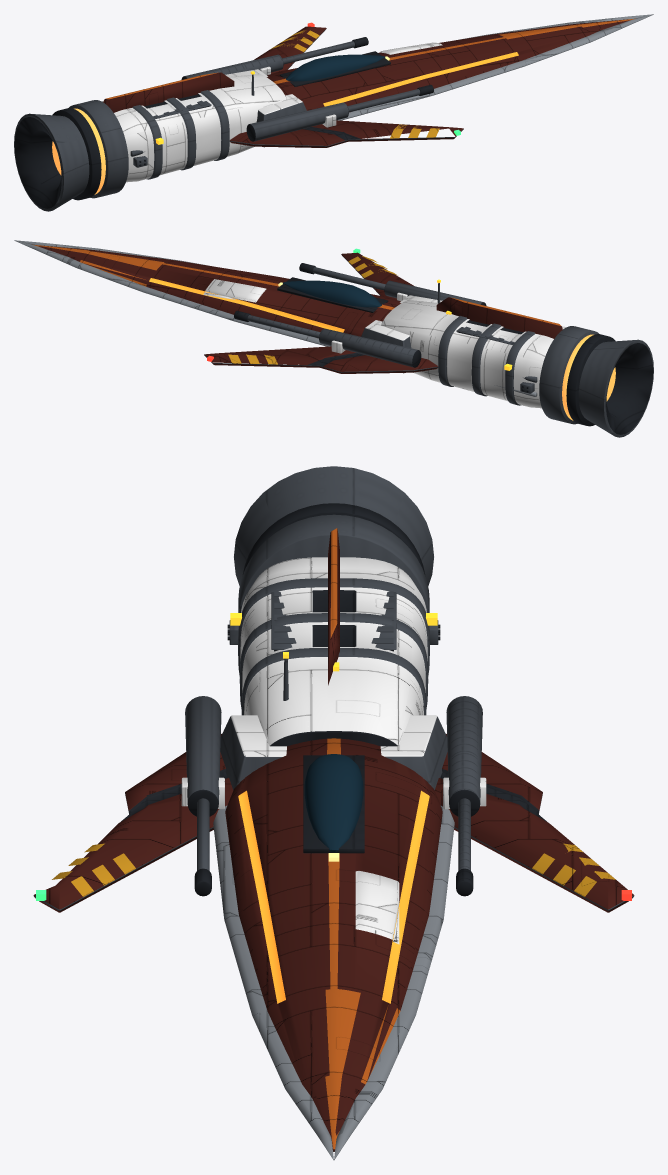
Rendered from ashline_dart_lod1.glb.
3 renders of one model, top to bottom at view 1: azimuth 30°, elevation 25°; view 2: azimuth 150°, elevation 25°; view 3: azimuth 270°, elevation 25°, orthographic. The views are drawn at different scales.
Parts seen in each view (by area): view 1: LOD1_MOTION_HULL_CORE_Hull, LOD1_MOTION_HULL_CORE_Mechanical, LOD1_MOTION_HULL_CORE_Armor, LOD1_MOTION_HULL_CORE_MechanicalDark, LOD1_MOTION_HULL_CORE_BrushedMetal, LOD1_MOTION_HULL_CORE_CANOPY, LOD1_MOTION_HULL_CORE_Livery, LOD1_MOTION_HULL_CORE_Lights_Cyan_sodium, LOD1_MOTION_HULL_CORE_Warning, LOD1_MOTION_HULL_CORE_HOOK_DRIVE_CORE; view 2: LOD1_MOTION_HULL_CORE_Hull, LOD1_MOTION_HULL_CORE_Mechanical, LOD1_MOTION_HULL_CORE_Armor, LOD1_MOTION_HULL_CORE_MechanicalDark, LOD1_MOTION_HULL_CORE_BrushedMetal, LOD1_MOTION_HULL_CORE_Livery, LOD1_MOTION_HULL_CORE_CANOPY, LOD1_MOTION_HULL_CORE_Lights_Cyan_sodium, LOD1_MOTION_HULL_CORE_HOOK_DRIVE_CORE, LOD1_MOTION_HULL_CORE_Warning; view 3: LOD1_MOTION_HULL_CORE_Hull, LOD1_MOTION_HULL_CORE_Mechanical, LOD1_MOTION_HULL_CORE_Armor, LOD1_MOTION_HULL_CORE_BrushedMetal, LOD1_MOTION_HULL_CORE_MechanicalDark, LOD1_MOTION_HULL_CORE_Livery, LOD1_MOTION_HULL_CORE_CANOPY, LOD1_MOTION_HULL_CORE_Lights_Cyan_sodium, LOD1_MOTION_HULL_CORE_Warning.
Boxes of the visible parts, x1=… form: LOD1_MOTION_HULL_CORE_Hull: x1=103, y1=19, x2=629, y2=147; LOD1_MOTION_HULL_CORE_Mechanical: x1=14, y1=28, x2=463, y2=211; LOD1_MOTION_HULL_CORE_Armor: x1=102, y1=42, x2=442, y2=182; LOD1_MOTION_HULL_CORE_MechanicalDark: x1=14, y1=37, x2=433, y2=208; LOD1_MOTION_HULL_CORE_BrushedMetal: x1=337, y1=14, x2=653, y2=120; LOD1_MOTION_HULL_CORE_CANOPY: x1=286, y1=54, x2=385, y2=81; LOD1_MOTION_HULL_CORE_Livery: x1=106, y1=18, x2=635, y2=99; LOD1_MOTION_HULL_CORE_Lights_Cyan_sodium: x1=323, y1=52, x2=518, y2=106; LOD1_MOTION_HULL_CORE_Warning: x1=270, y1=30, x2=439, y2=138; LOD1_MOTION_HULL_CORE_HOOK_DRIVE_CORE: x1=52, y1=108, x2=105, y2=194; LOD1_MOTION_HULL_CORE_Hull: x1=38, y1=245, x2=562, y2=373; LOD1_MOTION_HULL_CORE_Mechanical: x1=204, y1=254, x2=653, y2=437; LOD1_MOTION_HULL_CORE_Armor: x1=203, y1=279, x2=565, y2=408; LOD1_MOTION_HULL_CORE_MechanicalDark: x1=234, y1=263, x2=653, y2=434; LOD1_MOTION_HULL_CORE_BrushedMetal: x1=14, y1=240, x2=537, y2=396; LOD1_MOTION_HULL_CORE_Livery: x1=32, y1=244, x2=560, y2=325; LOD1_MOTION_HULL_CORE_CANOPY: x1=283, y1=280, x2=381, y2=307; LOD1_MOTION_HULL_CORE_Lights_Cyan_sodium: x1=149, y1=278, x2=344, y2=332; LOD1_MOTION_HULL_CORE_HOOK_DRIVE_CORE: x1=562, y1=334, x2=615, y2=420; LOD1_MOTION_HULL_CORE_Warning: x1=228, y1=256, x2=397, y2=364; LOD1_MOTION_HULL_CORE_Hull: x1=34, y1=529, x2=633, y2=1151; LOD1_MOTION_HULL_CORE_Mechanical: x1=33, y1=466, x2=634, y2=910; LOD1_MOTION_HULL_CORE_Armor: x1=181, y1=557, x2=486, y2=944; LOD1_MOTION_HULL_CORE_BrushedMetal: x1=213, y1=805, x2=454, y2=1160; LOD1_MOTION_HULL_CORE_MechanicalDark: x1=121, y1=503, x2=548, y2=896; LOD1_MOTION_HULL_CORE_Livery: x1=325, y1=528, x2=400, y2=1149; LOD1_MOTION_HULL_CORE_CANOPY: x1=304, y1=754, x2=363, y2=851; LOD1_MOTION_HULL_CORE_Lights_Cyan_sodium: x1=238, y1=790, x2=429, y2=1003; LOD1_MOTION_HULL_CORE_Warning: x1=52, y1=843, x2=615, y2=896.
Size of what is drawn, in the model's own units: 16.32 by 2.42 by 6.89.
14 materials, 7 textured.
